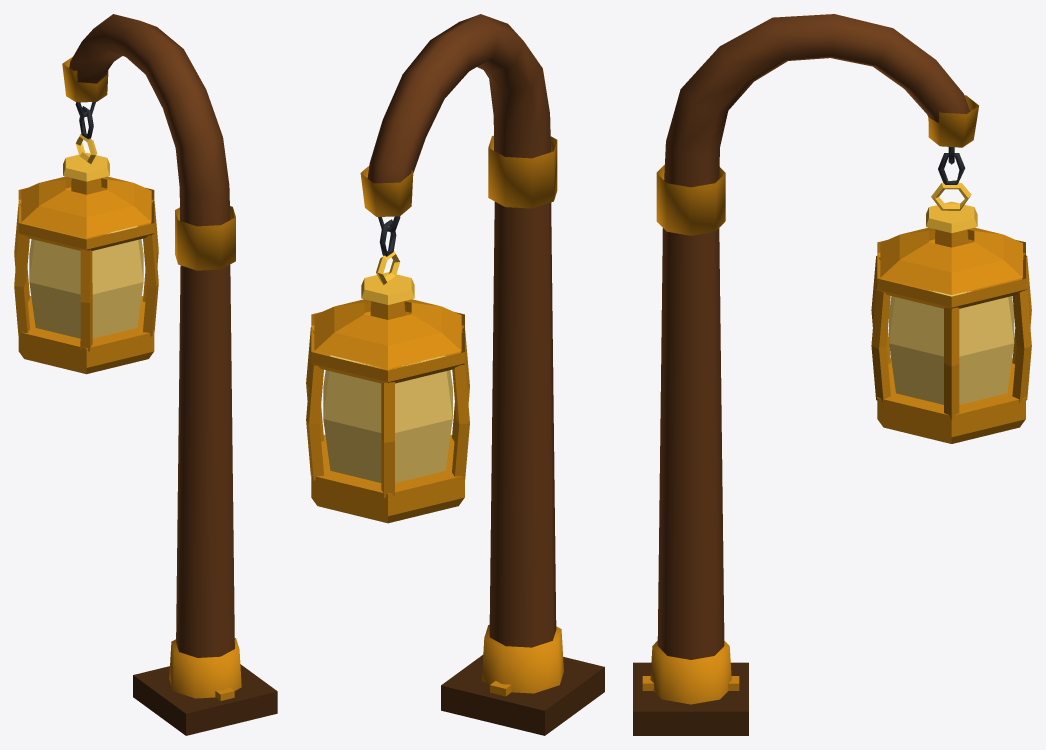
The model's file is rower-lantern.glb.
3 views of the same model, side by side, from view 1: azimuth 30°, elevation 25°; view 2: azimuth 150°, elevation 25°; view 3: azimuth 270°, elevation 25° (orthographic). The views are drawn at different scales.
Visible parts, largest first — view 1: post, glass; view 2: post, glass; view 3: post, glass.
Part boxes in pixels (x1=…): post: x1=14, y1=14, x2=277, y2=735; glass: x1=29, y1=226, x2=143, y2=338; post: x1=306, y1=14, x2=604, y2=735; glass: x1=323, y1=355, x2=452, y2=482; post: x1=633, y1=14, x2=1031, y2=735; glass: x1=889, y1=290, x2=1014, y2=404.
Bounding box in the file's own units: 0.205 × 0.8623 × 0.4469.
